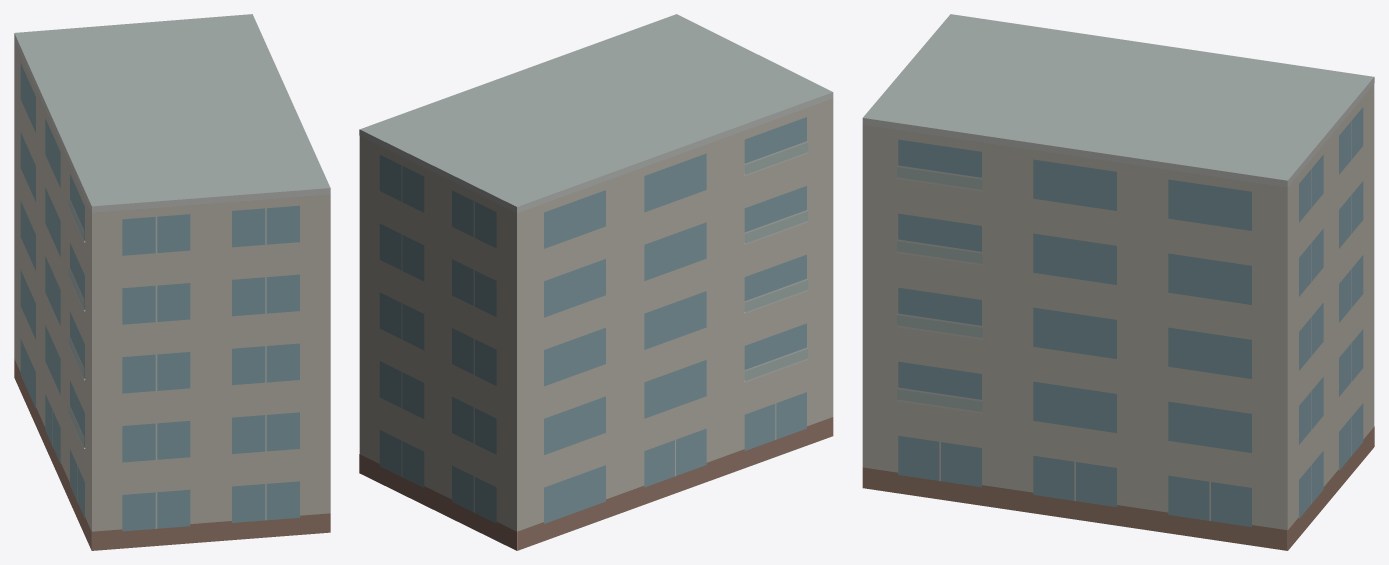
File: survey-upis-32888416.glb
3 views of the same model, side by side, from view 1: azimuth 30°, elevation 25°; view 2: azimuth 150°, elevation 25°; view 3: azimuth 270°, elevation 25° (orthographic). The views are drawn at different scales.
Visible parts, largest first — view 1: survey-upis-32888416.tmp; view 2: survey-upis-32888416.tmp; view 3: survey-upis-32888416.tmp.
Part boxes in pixels (left/top/right/bottom): survey-upis-32888416.tmp: left=14, top=14, right=330, bottom=550; survey-upis-32888416.tmp: left=359, top=14, right=833, bottom=550; survey-upis-32888416.tmp: left=862, top=14, right=1374, bottom=550.
Size of the model in its own units: 12.94 by 13.4 by 16.8.
